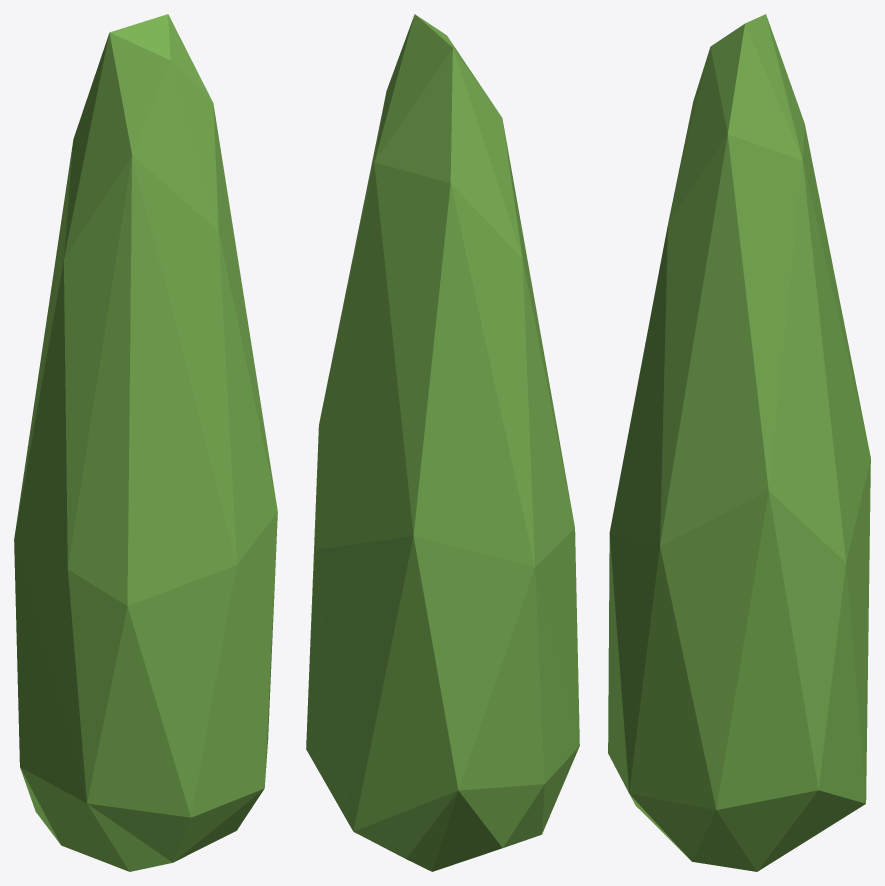
The model's file is Thuja_BushTree_m_01_LOD.fbx.
3 renders of one model, left to right at view 1: azimuth 30°, elevation 25°; view 2: azimuth 150°, elevation 25°; view 3: azimuth 270°, elevation 25°, orthographic.
Visible parts, largest first — view 1: Thuja_BushTree_m_01_LOD0; view 2: Thuja_BushTree_m_01_LOD0; view 3: Thuja_BushTree_m_01_LOD0.
Boxes of the visible parts, <box> form: Thuja_BushTree_m_01_LOD0: <box>14,14,277,871</box>; Thuja_BushTree_m_01_LOD0: <box>306,14,579,871</box>; Thuja_BushTree_m_01_LOD0: <box>608,14,870,871</box>.
Size of what is drawn, in the model's own units: 96.9 by 342 by 97.04.
